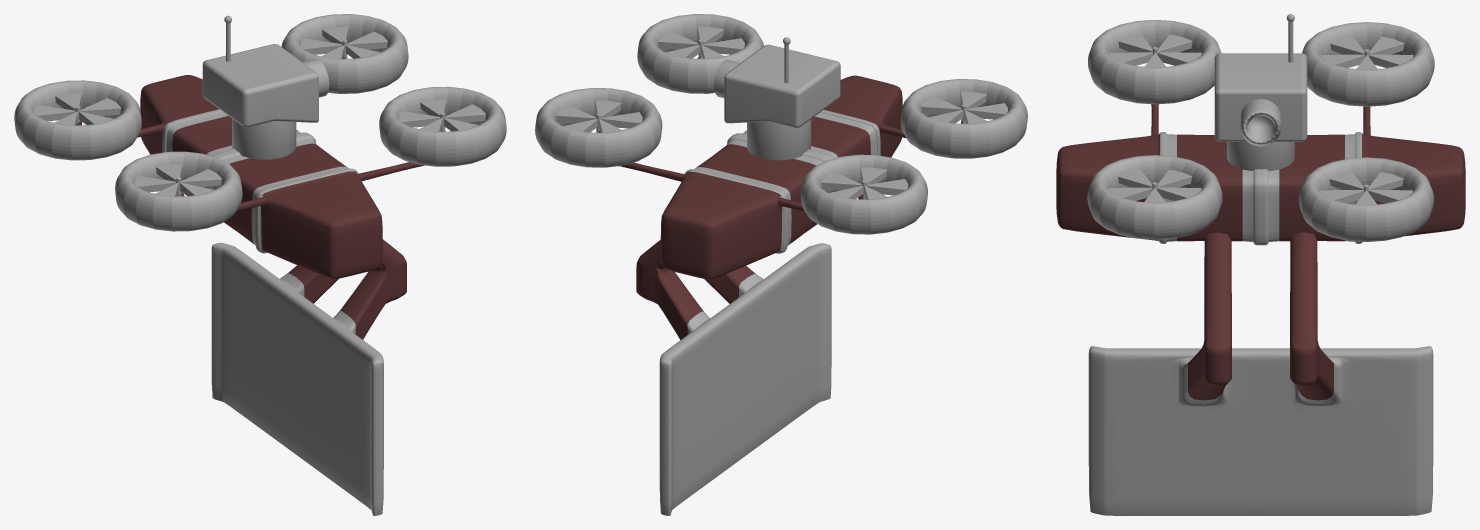
File: Drone.fbx
3 views of the same model, side by side, from view 1: azimuth 30°, elevation 25°; view 2: azimuth 150°, elevation 25°; view 3: azimuth 270°, elevation 25° (orthographic). The views are drawn at different scales.
Parts seen in each view (by area): view 1: pCube4, pCube5; view 2: pCube4, pCube5; view 3: pCube4, pCube5.
Part boxes in pixels (x1,y1,x2,y2): pCube4: (14,14,506,515); pCube5: (34,26,485,196); pCube4: (535,14,1027,515); pCube5: (555,26,1008,199); pCube4: (1056,14,1465,515); pCube5: (1108,34,1413,204).
Size of the model in its own units: 2.52 by 2.84 by 2.25.
